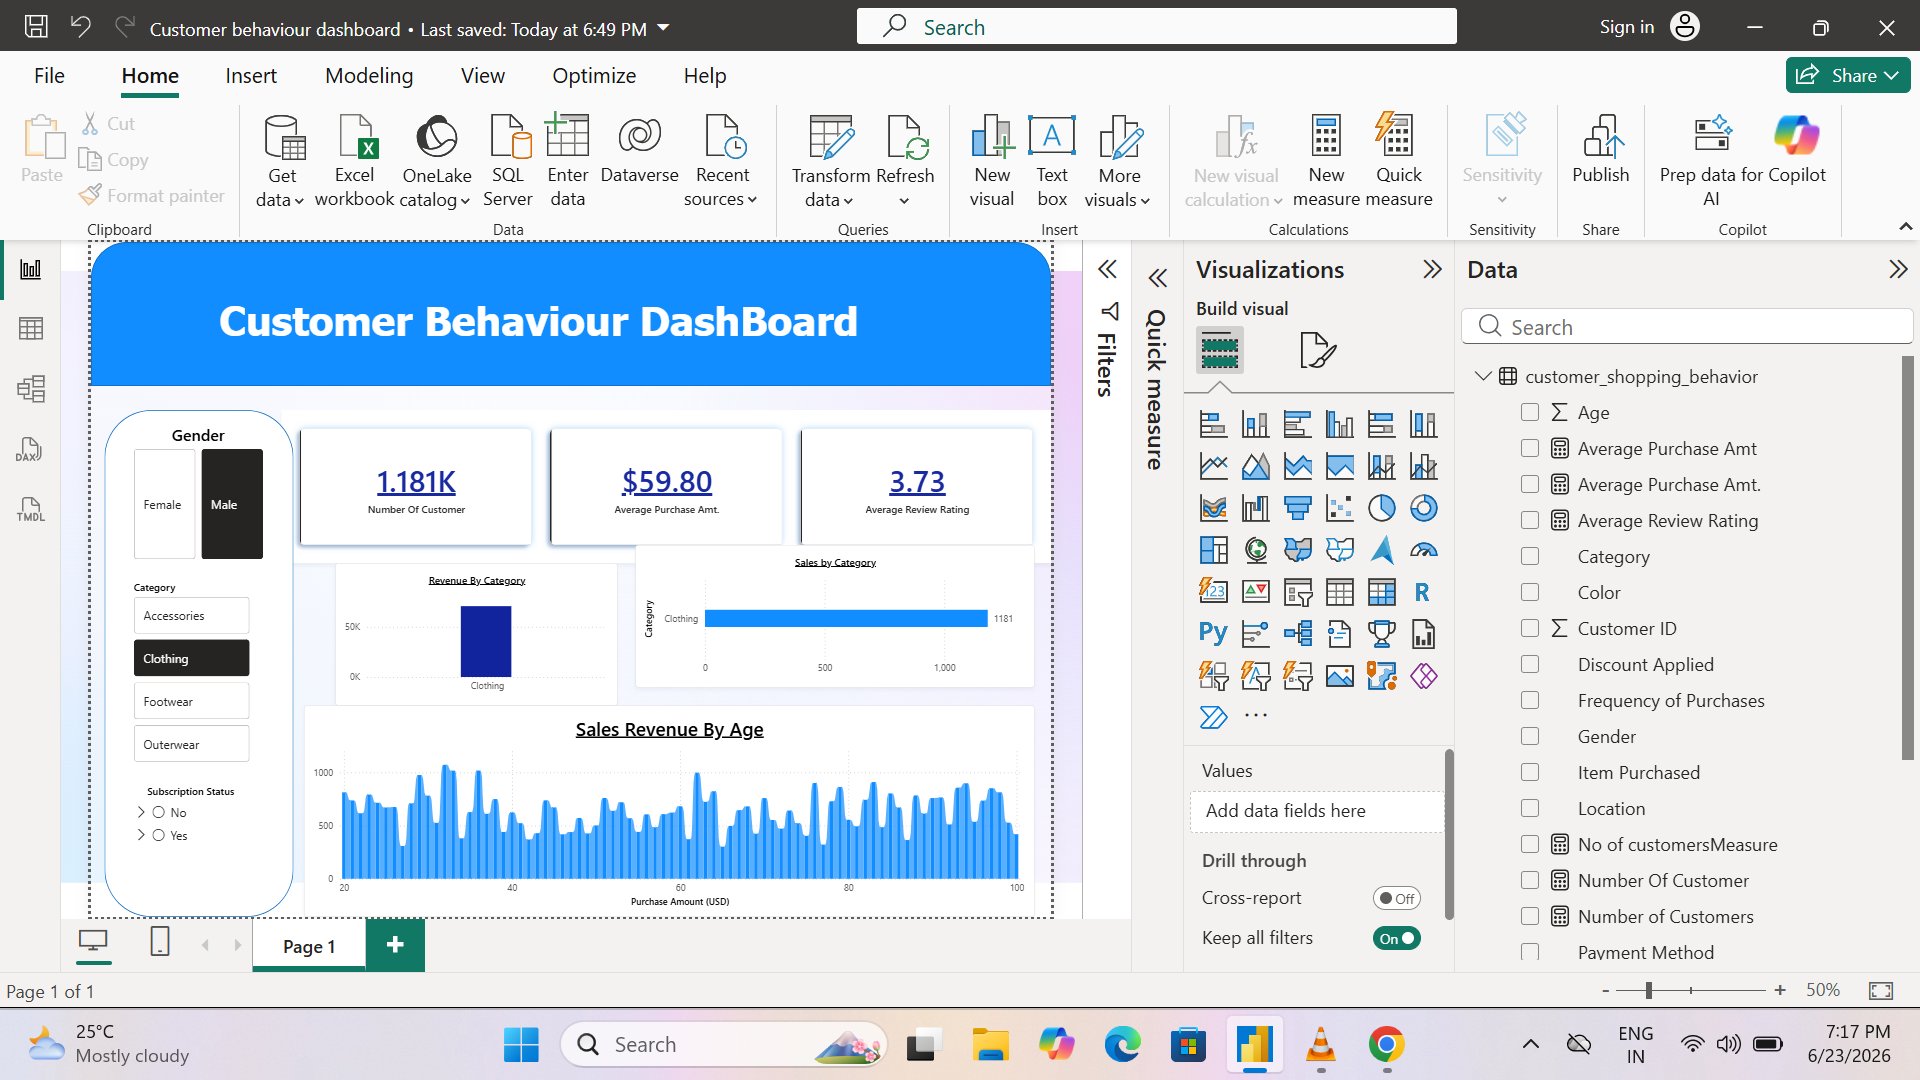

What the dashboard file says about the page in this screenshot:
{"tool":"powerbi","page":{"name":"Page 1","canvas":[1280,900],"ordinal":0},"visuals":[{"type":"cardVisual","fields":{"Data":["customer_shopping_behavior.No Of Customer","customer_shopping_behavior.Average Purchase Amt.","customer_shopping_behavior.Average Review Rating"]},"box":[254,224,1026,204],"z":0},{"type":"shape","box":[0,0,1280,192],"z":1000},{"type":"textbox","box":[166,66,1016,92],"z":2000},{"type":"clusteredColumnChart","title":"Revenue By Category","fields":{"Category":["customer_shopping_behavior.Category"],"Y":["Sum(customer_shopping_behavior.Purchase Amount (USD))"]},"box":[326,428,376,190],"z":3000},{"type":"clusteredBarChart","title":"Sales by Category","fields":{"Category":["customer_shopping_behavior.Category"],"Y":["CountNonNull(customer_shopping_behavior.Customer ID)"]},"box":[726,404,532,190],"z":4000},{"type":"shape","box":[18,224,252,676],"z":5000},{"type":"advancedSlicerVisual","title":"Gender","fields":{"Values":["customer_shopping_behavior.Gender"]},"box":[52,242,182,186],"z":6000},{"type":"listSlicer","fields":{"Values":["customer_shopping_behavior.Subscription Status","customer_shopping_behavior.Category"]},"box":[52,722,162,128],"z":7000},{"type":"advancedSlicerVisual","fields":{"Values":["customer_shopping_behavior.Category"]},"box":[52,450,164,250],"z":8000},{"type":"ribbonChart","title":"Sales Revenue By Age","fields":{"Category":["customer_shopping_behavior.Purchase Amount (USD)"],"Y":["Sum(customer_shopping_behavior.Age)"]},"box":[284,618,974,282],"z":9000}]}

Visuals, with their boxes on the page's 1280x900 design canvas (x1, y1, x2, y2). These are canvas units, not pixel positions in the 1920x1080 screenshot, which may show the page scaled, cropped or inside an application window:
cardVisual - customer_shopping_behavior.No Of Customer x customer_shopping_behavior.Average Purchase Amt.: (254,224,1280,428)
shape: (0,0,1280,192)
textbox: (166,66,1182,158)
"Revenue By Category" clusteredColumnChart: (326,428,702,618)
"Sales by Category" clusteredBarChart: (726,404,1258,594)
shape: (18,224,270,900)
"Gender" advancedSlicerVisual: (52,242,234,428)
listSlicer - customer_shopping_behavior.Subscription Status x customer_shopping_behavior.Category: (52,722,214,850)
advancedSlicerVisual - customer_shopping_behavior.Category: (52,450,216,700)
"Sales Revenue By Age" ribbonChart: (284,618,1258,900)
